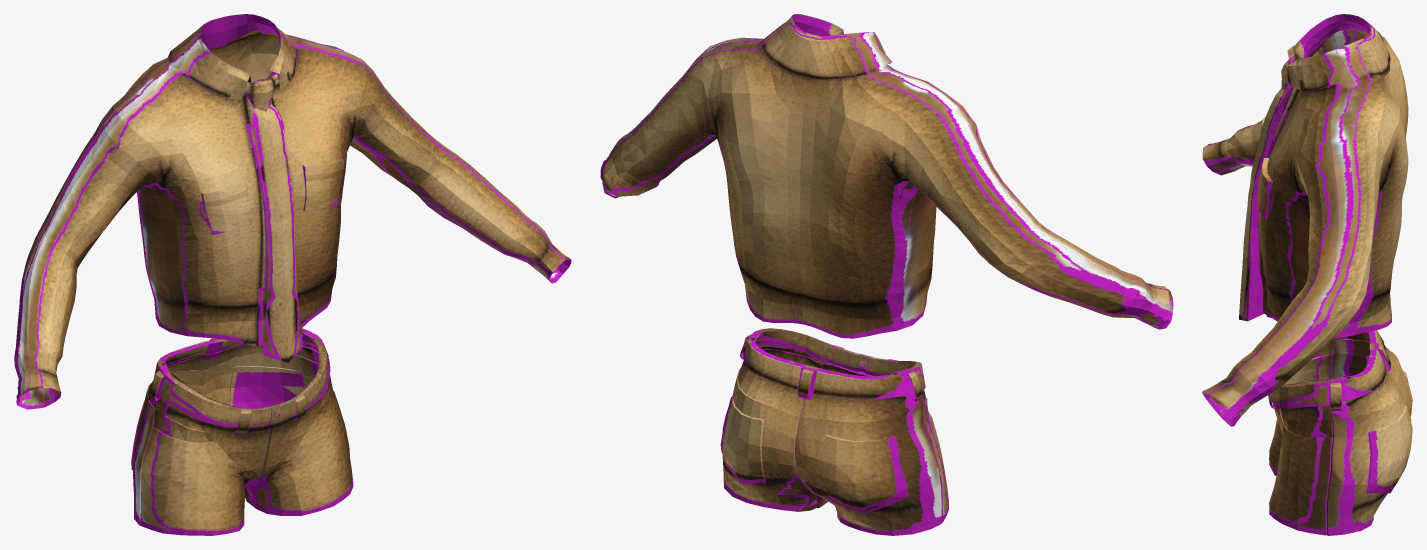
The picture shows the model from 3 angles, left to right: view 1: azimuth 30°, elevation 25°; view 2: azimuth 150°, elevation 25°; view 3: azimuth 270°, elevation 25°; orthographic projection. The views are drawn at different scales.
Size of the model in its own units: 1.16 by 0.9588 by 0.3916.
Materials: 1 (1 with a texture image).
